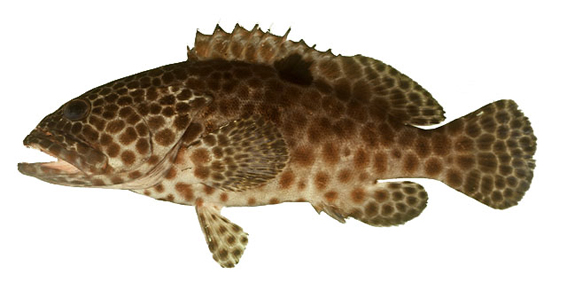fish: (16, 16, 537, 270)
